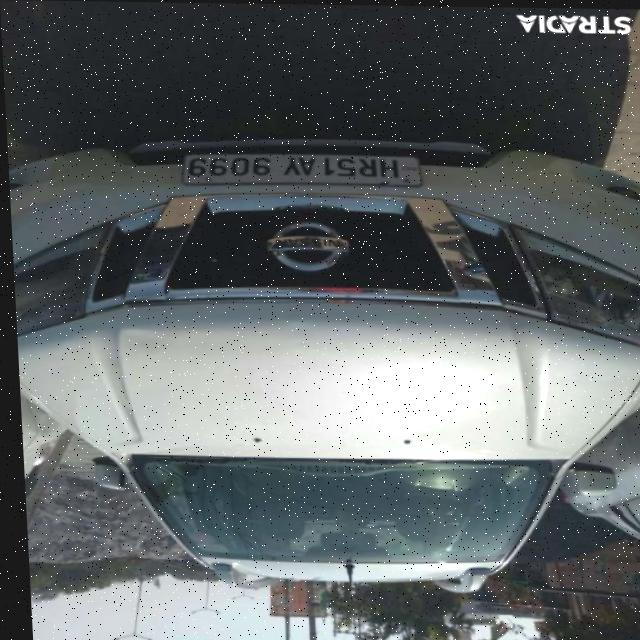plate: (179, 152, 423, 188)
